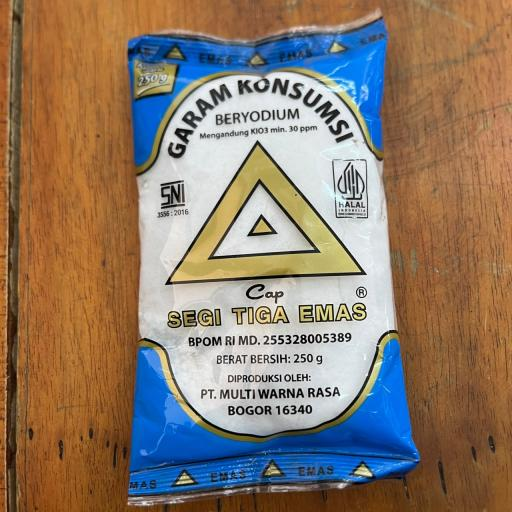Garam Segitiga Emas: (110, 28, 427, 508)
